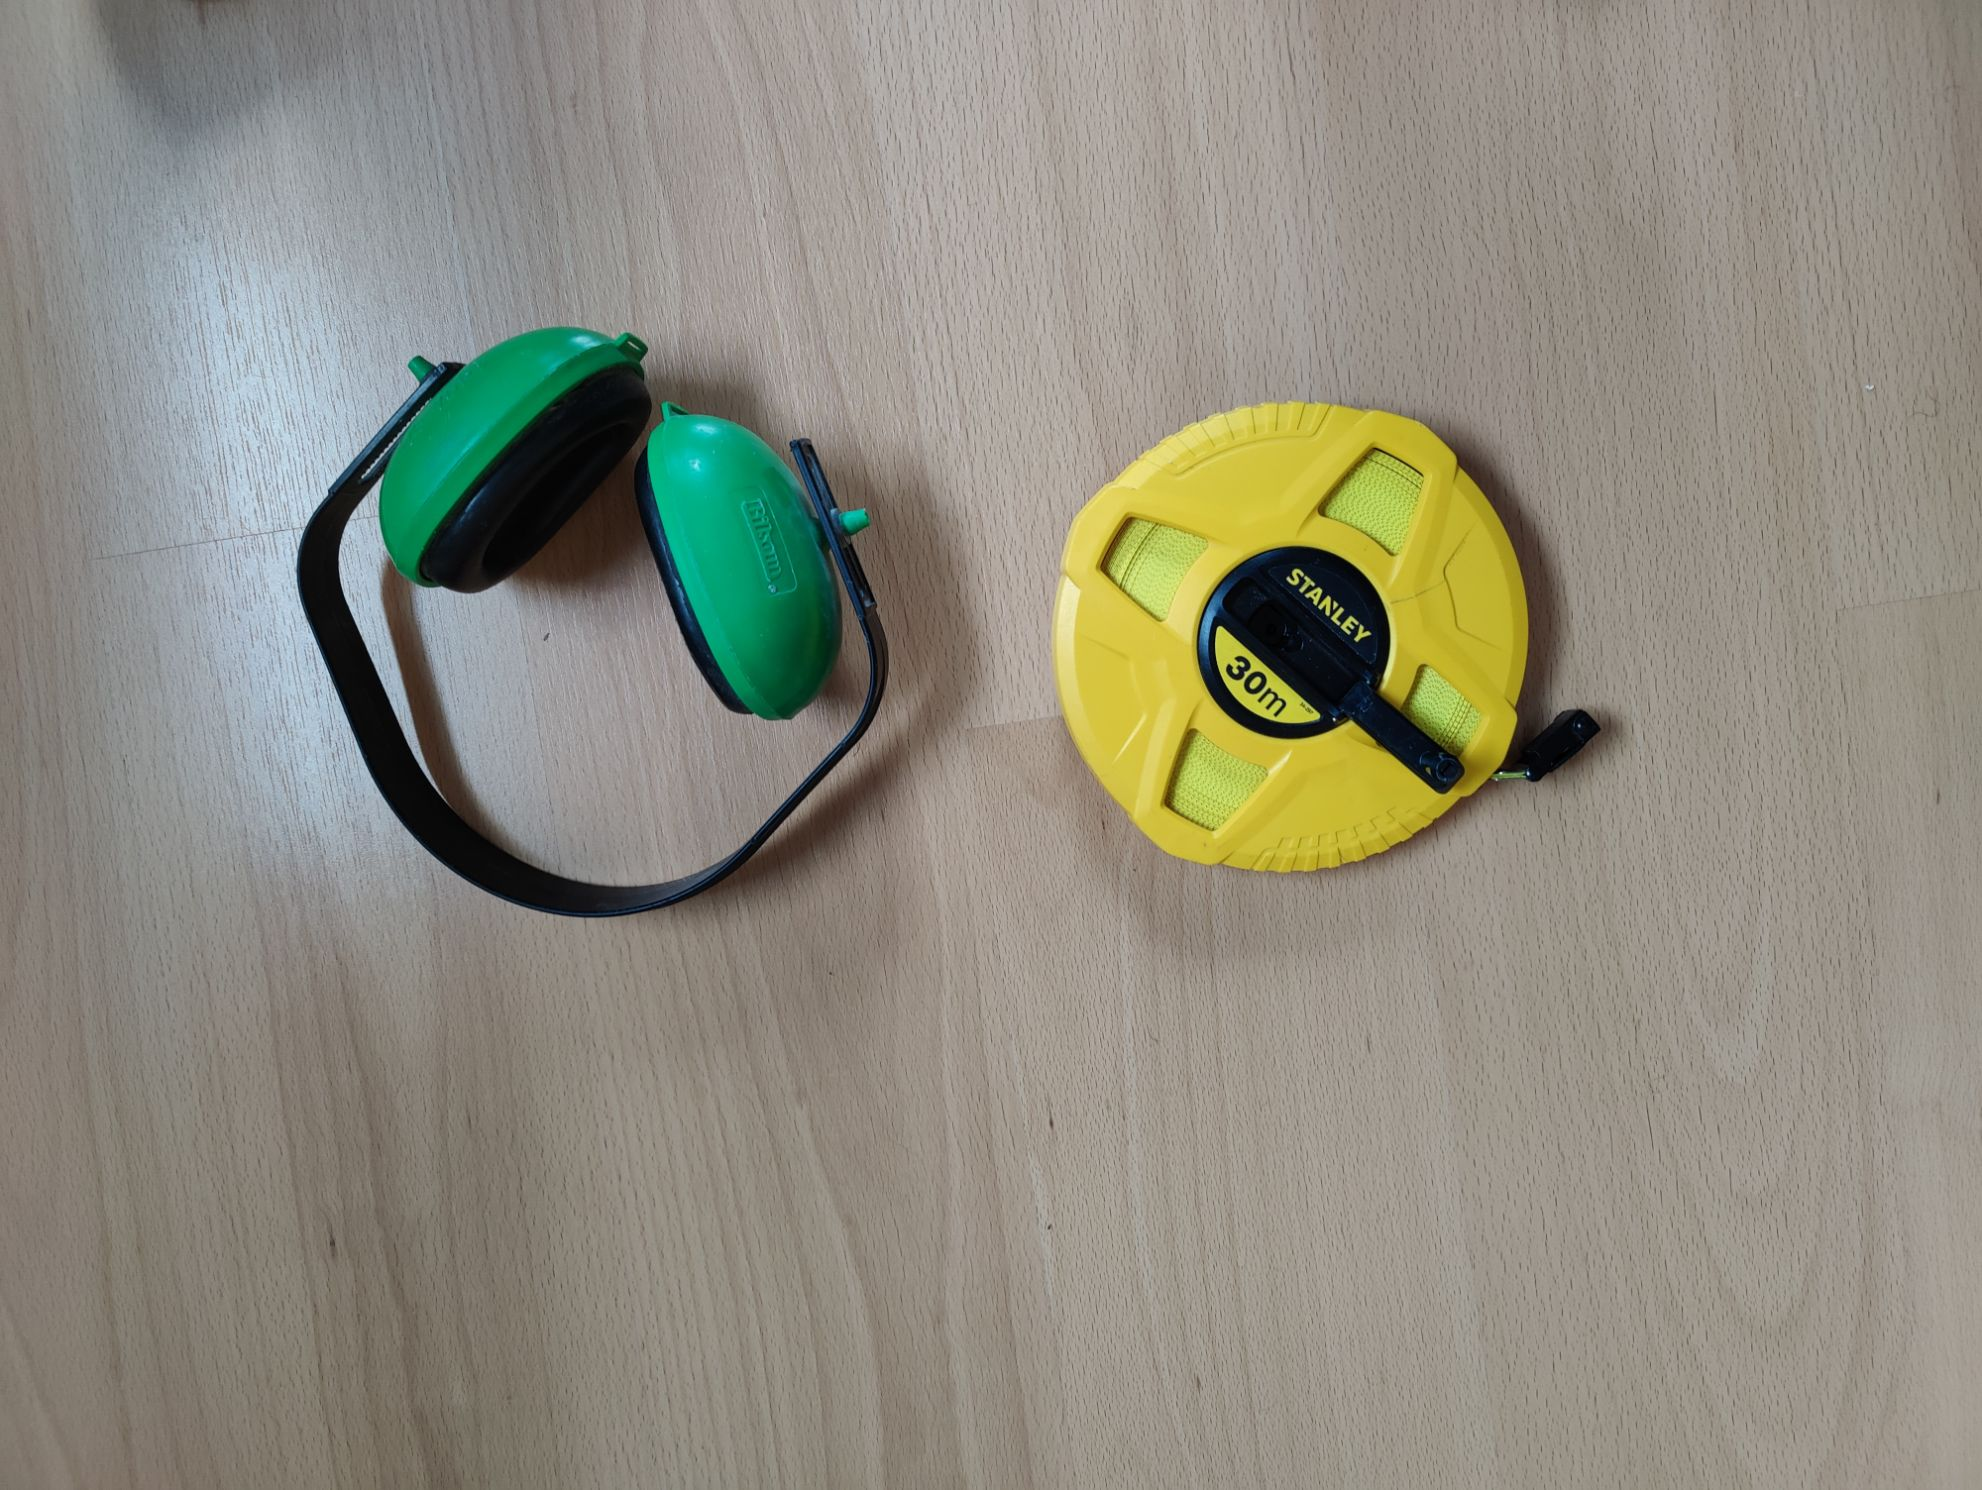headphones: (297, 343, 892, 927)
tapemeasure: (1051, 401, 1600, 883)
